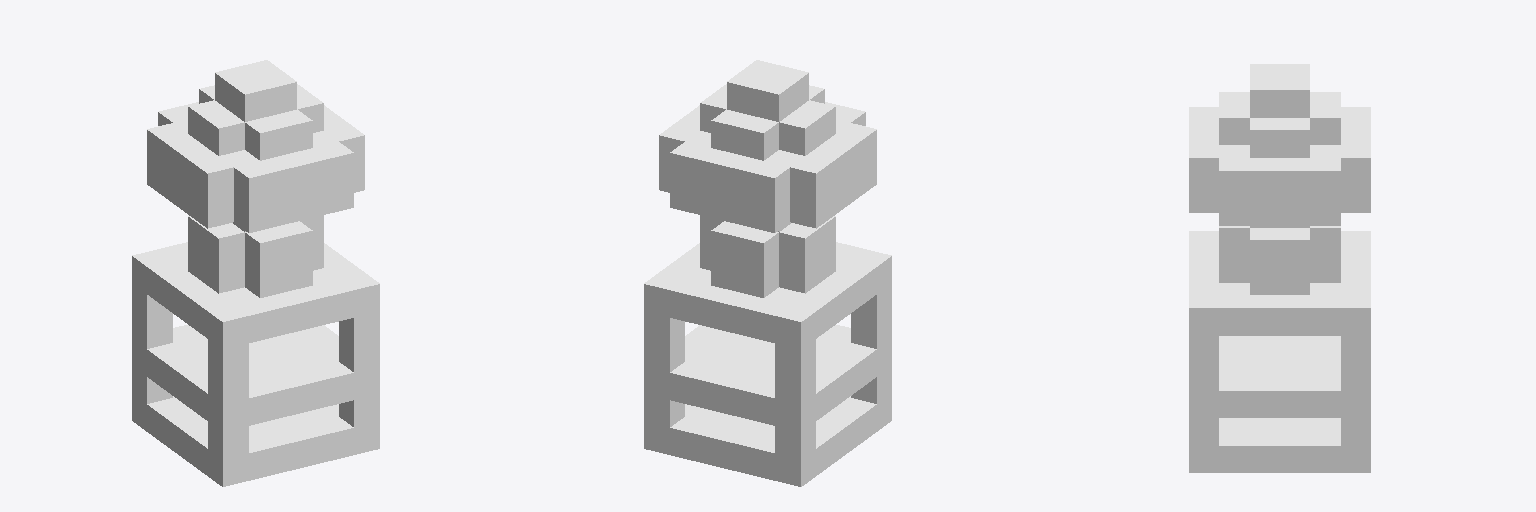
File: endtable_w_light.obj
3 views of the same model, side by side, from view 1: azimuth 30°, elevation 25°; view 2: azimuth 150°, elevation 25°; view 3: azimuth 270°, elevation 25° (orthographic).
Parts seen in each view (by area): view 1: endtable_w_light; view 2: endtable_w_light; view 3: endtable_w_light.
Part boxes in pixels (x1,y1,x2,y2): endtable_w_light: (132, 60, 379, 486); endtable_w_light: (644, 60, 891, 486); endtable_w_light: (1189, 64, 1370, 472).
Size of the model in its own units: 6 by 13 by 6.